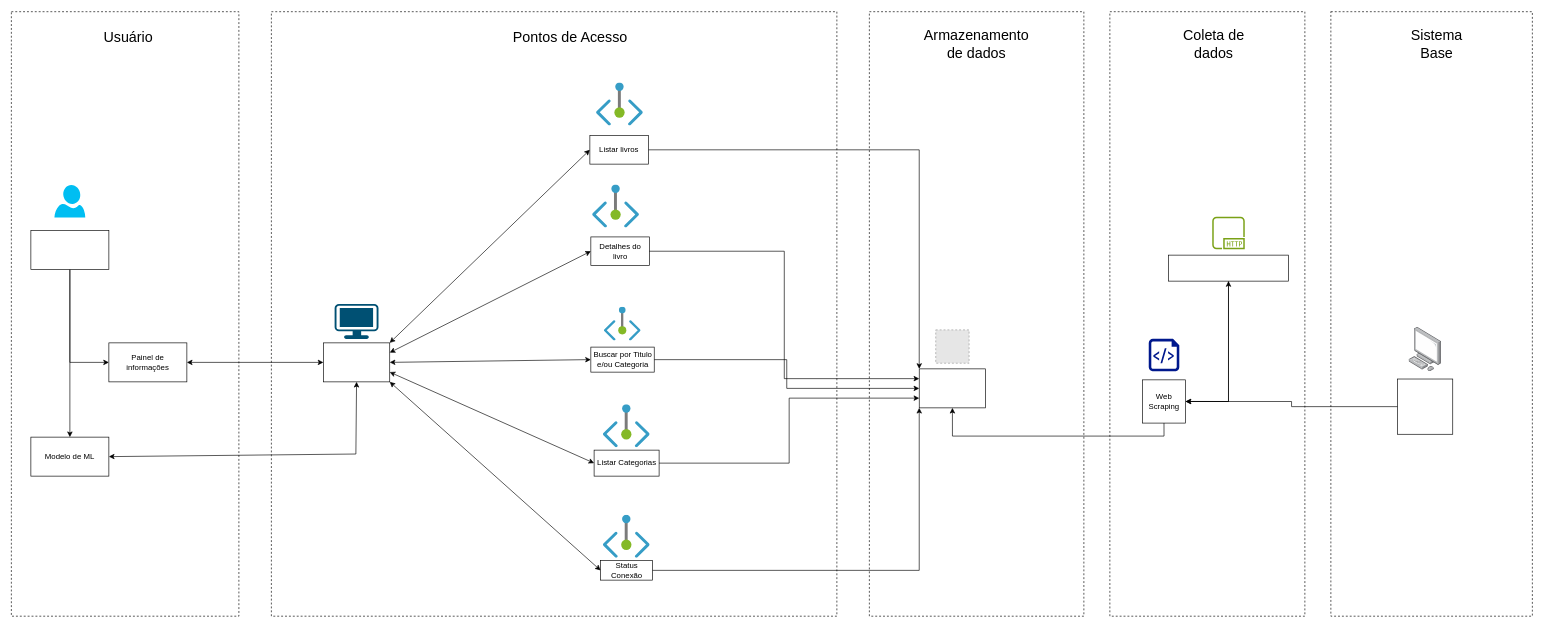
Some shapes in this 1544 by 627 pixel diagram are drawn without their labels. Grey dashed boxes stand in for pictures. The shapes that lost their labels are listed below. From the top down, each one's box as (x1, y1, x2, y2) in pixels, then its label:
(30, 230, 109, 269): Cientista
(1168, 254, 1289, 281): http://books.toscrape.com/
(323, 342, 390, 382): Servidor de Consumo
(919, 368, 986, 408): Banco de Dados CSV
(1397, 378, 1453, 434): Inicia o Sistema
